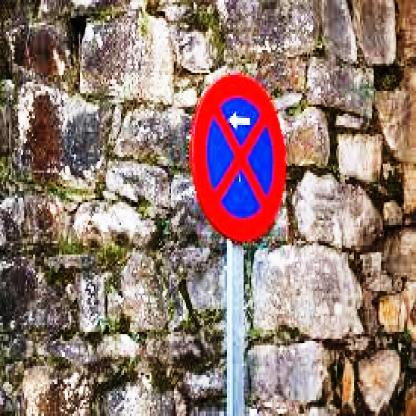No stopping: (192, 64, 294, 246)
